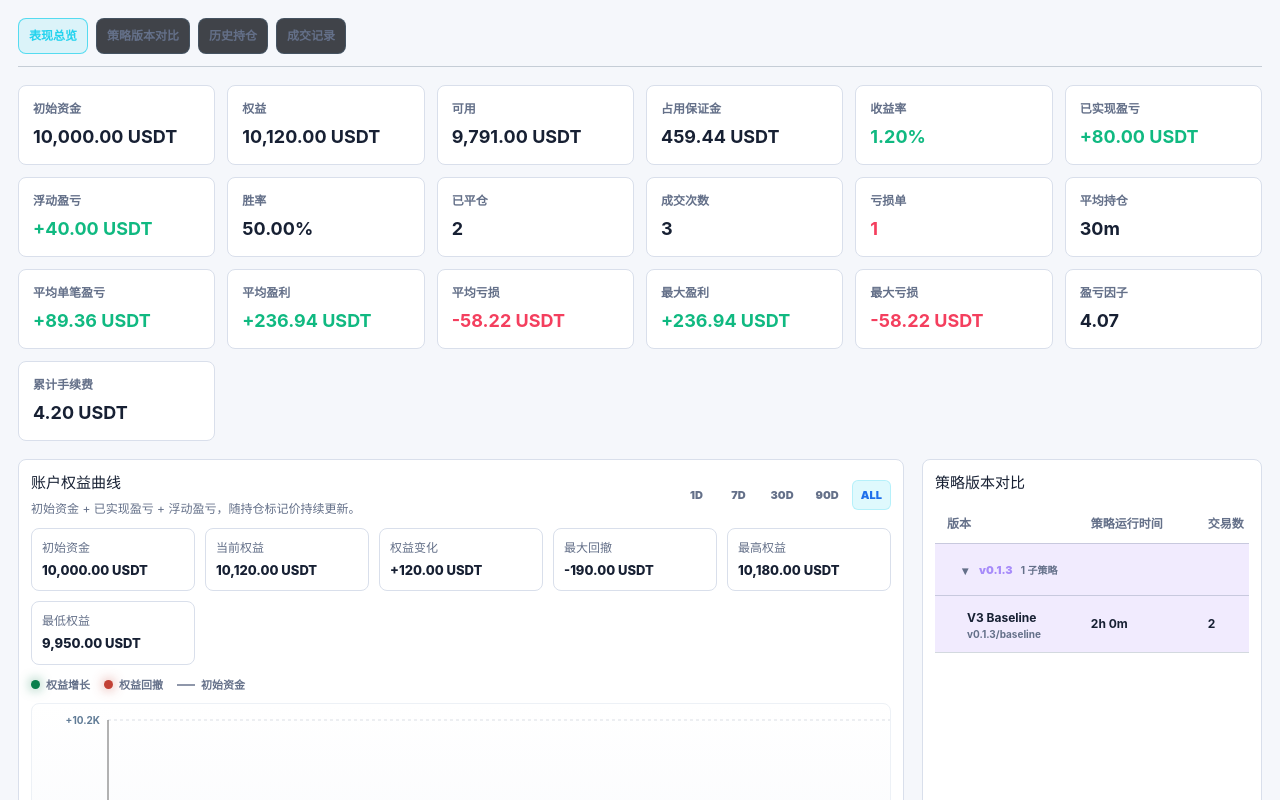
App › uses the selected OHLC equity bucket series and includes intrabucket highs and lows
The width and height of the screenshot is (1280, 800).
Expected: the element with test id "review-equity-curve" shows "10,180.00 USDT", [738,562,840,578]
Expected: the element with test id "review-equity-curve" shows "9,950.00 USDT", [42,635,141,651]
Step 1. Click the button "1D" → (696, 495), box [678,480,716,510]
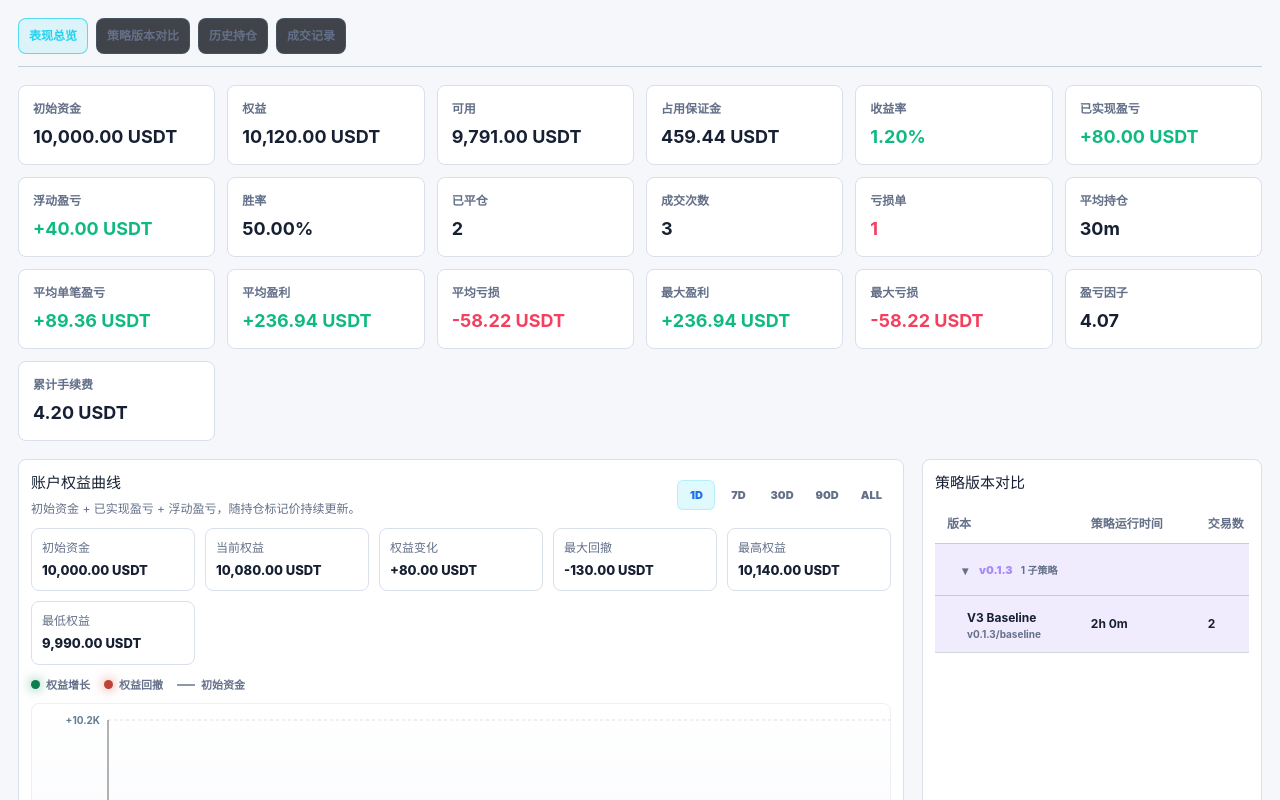
Expected: the element with test id "review-equity-curve" shows "10,140.00 USDT", [738,562,840,578]
Expected: the element with test id "review-equity-curve" shows "9,990.00 USDT", [42,635,141,651]
Expected: the element with test id "review-equity-curve" shows "10,080.00 USDT", [216,562,322,578]
Step 2. Click the button "7D" → (738, 495), box [720,480,758,510]
(page scrolled)
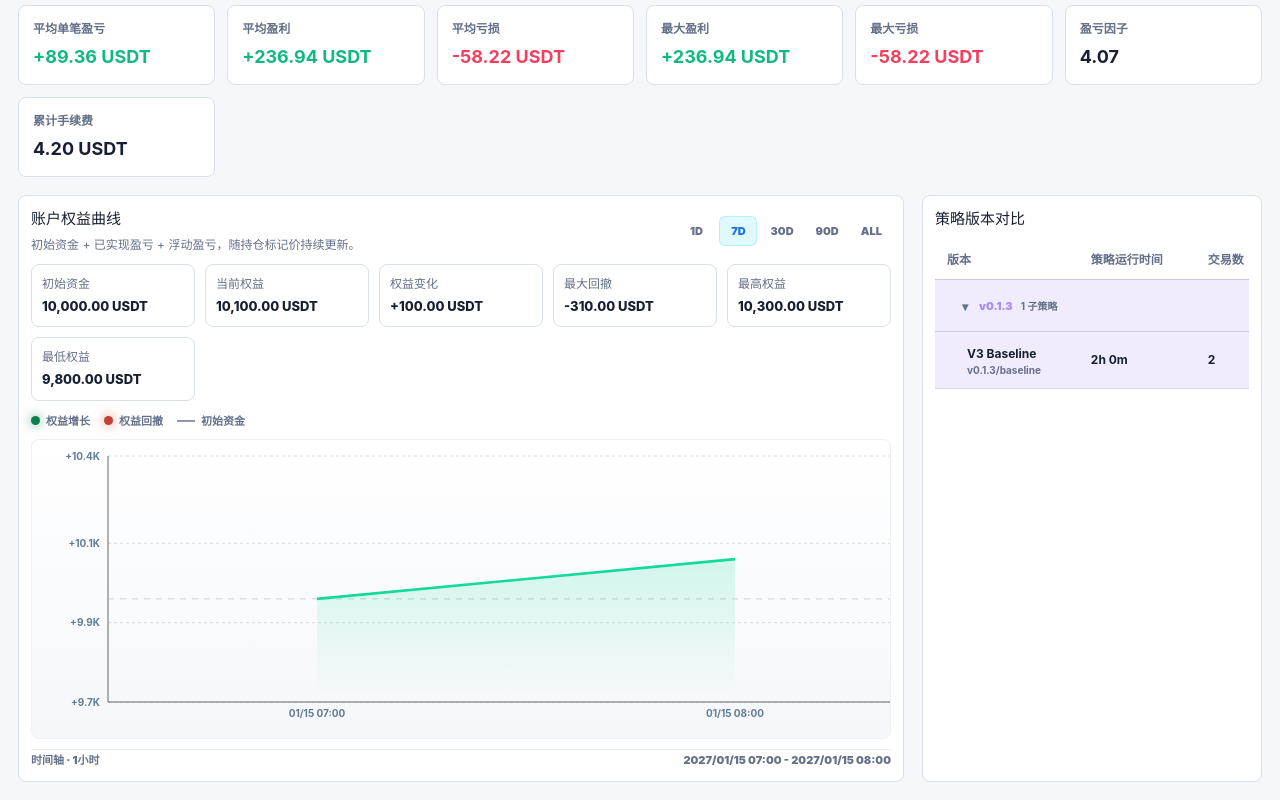
Expected: the element with test id "review-equity-curve" shows "10,300.00 USDT", [738,298,844,314]
Expected: the element with test id "review-equity-curve" shows "9,800.00 USDT", [42,371,141,387]
Expected: the element with test id "review-equity-curve" shows "10,100.00 USDT", [216,298,318,314]
